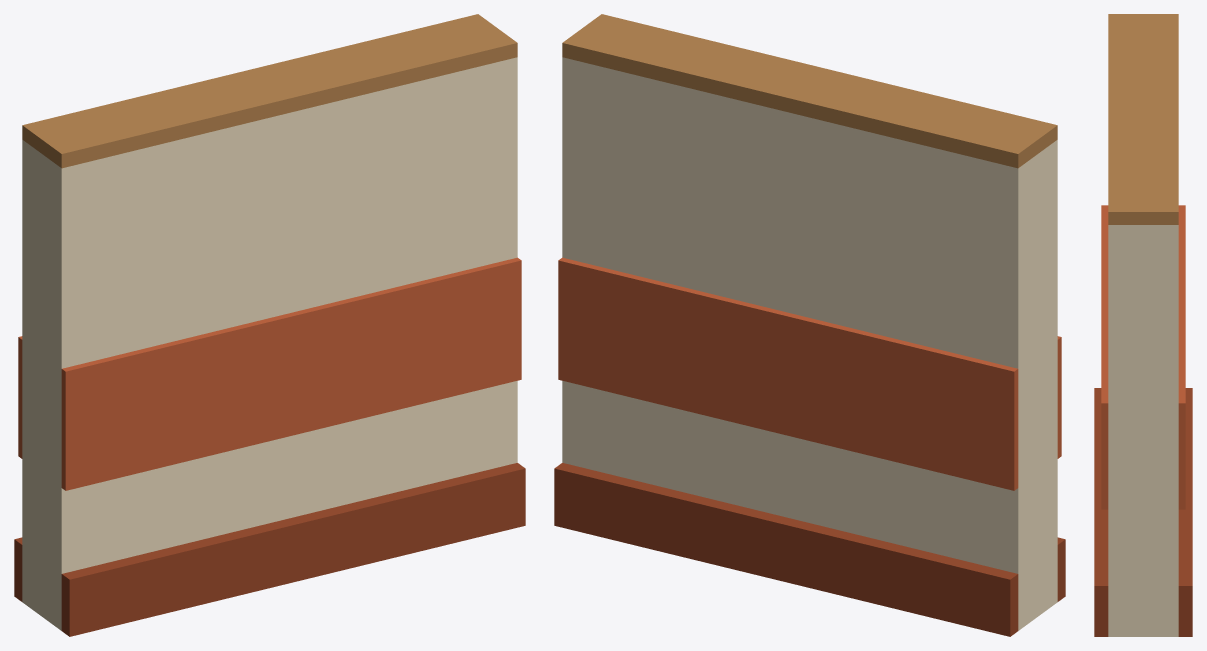
The model's file is partition-full.glb.
The picture shows the model from 3 angles, left to right: view 1: azimuth 30°, elevation 25°; view 2: azimuth 150°, elevation 25°; view 3: azimuth 270°, elevation 25°; orthographic projection. The views are drawn at different scales.
Visible parts, largest first — view 1: partition-full; view 2: partition-full; view 3: partition-full.
Boxes of the visible parts, x1,y1,x2,y2 form: partition-full: (14,14,525,636); partition-full: (554,14,1065,636); partition-full: (1094,14,1192,636).
Bounding box in the file's own units: 1 × 1 × 0.21.
1 material, 1 textured.
